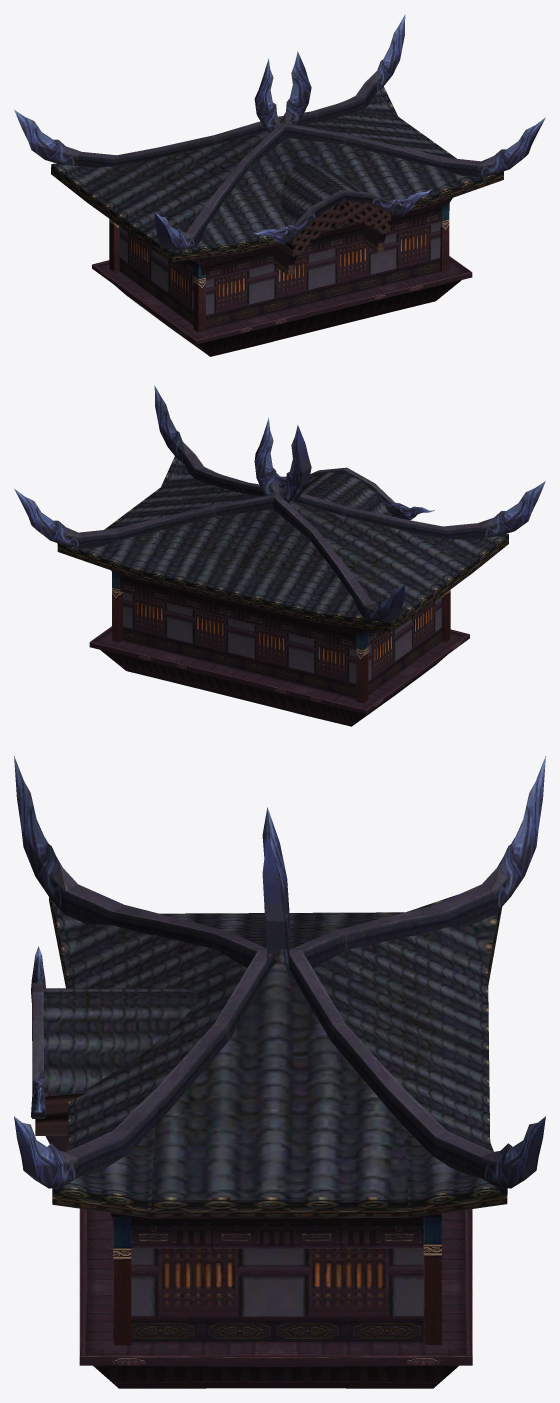
The model's file is Yland2_jz_06 Yland2.FBX.
3 views of the same model, one above another, from view 1: azimuth 30°, elevation 25°; view 2: azimuth 150°, elevation 25°; view 3: azimuth 270°, elevation 25° (orthographic). The views are drawn at different scales.
Parts seen in each view (by area): view 1: Yland2_jz_06 Yland2; view 2: Yland2_jz_06 Yland2; view 3: Yland2_jz_06 Yland2.
Boxes of the visible parts, x1,y1,x2,y2 form: Yland2_jz_06 Yland2: [14, 14, 545, 356]; Yland2_jz_06 Yland2: [14, 385, 545, 726]; Yland2_jz_06 Yland2: [14, 756, 545, 1388].
Bounding box in the file's own units: 19.37 × 11.62 × 12.07.
